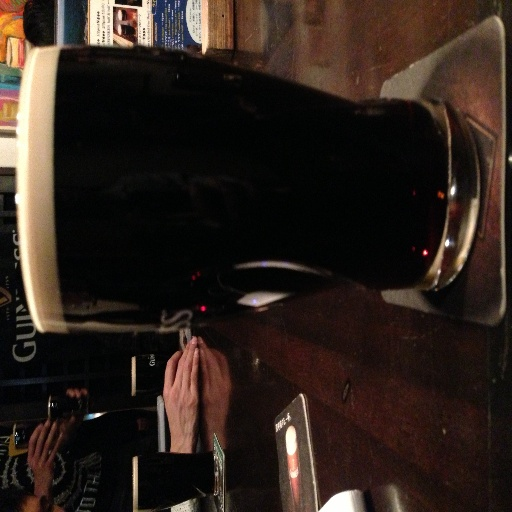hand: (157, 337, 216, 459), (23, 416, 65, 488), (59, 387, 92, 437)
